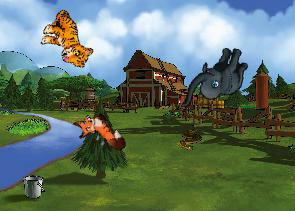elephant: (180, 38, 251, 119)
fox: (69, 103, 129, 165)
tiger: (34, 6, 103, 71)
